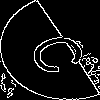C: (25, 25, 100, 79)
